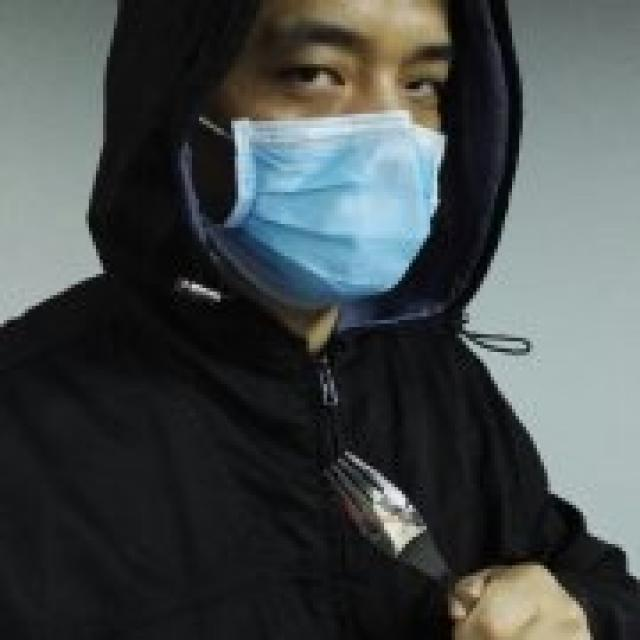mask: (213, 4, 462, 288)
